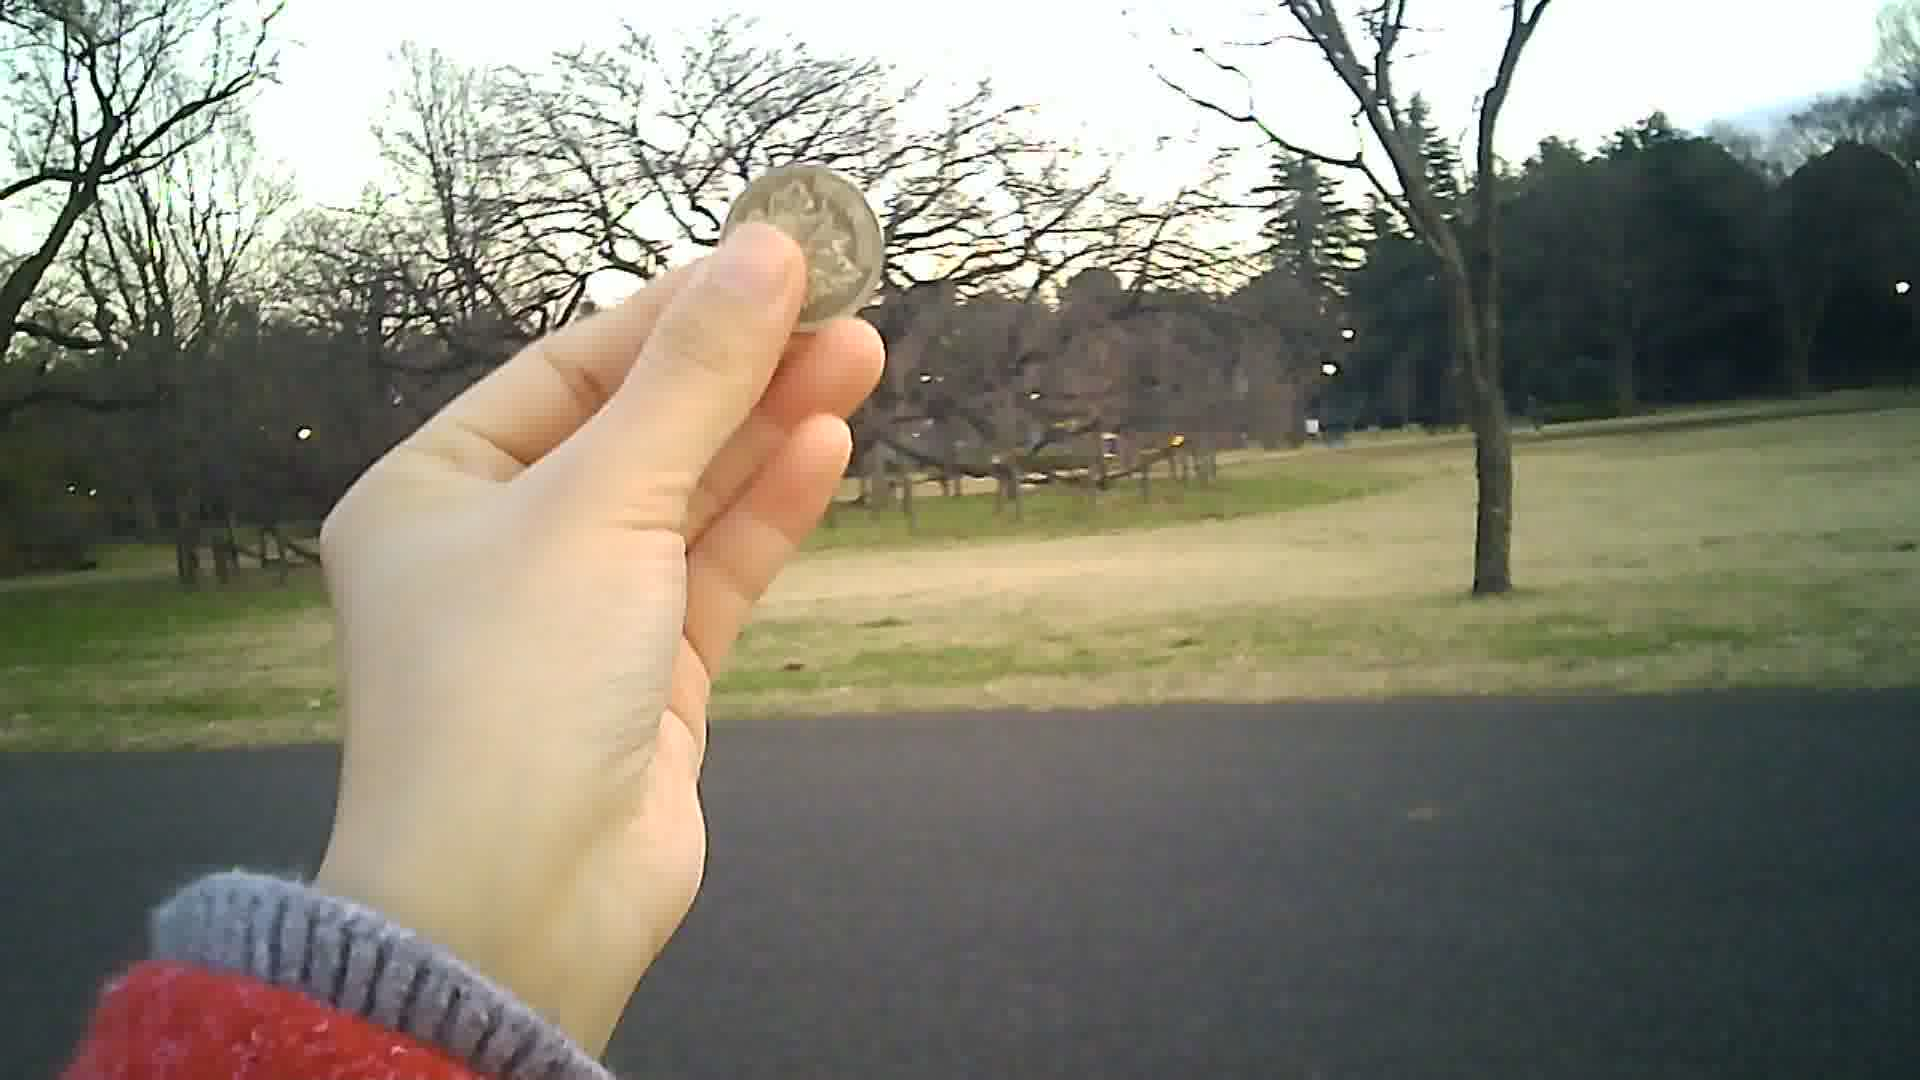500 Yen: (720, 162, 887, 327)
